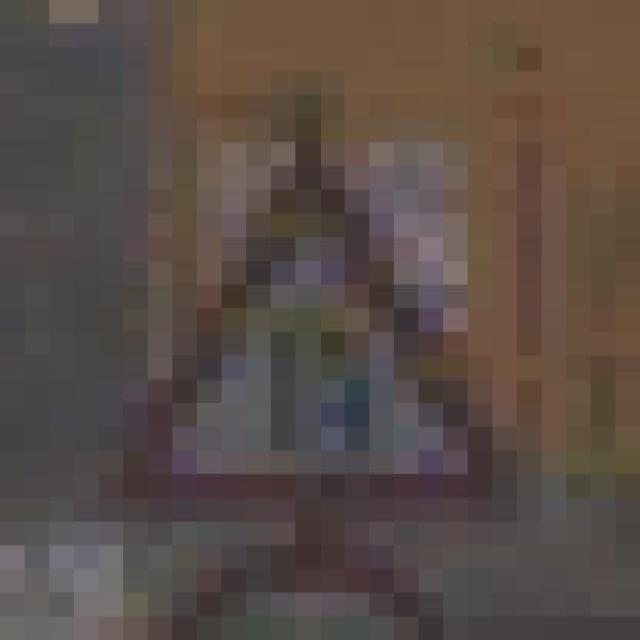-Road narrows on right: (74, 119, 517, 522)
